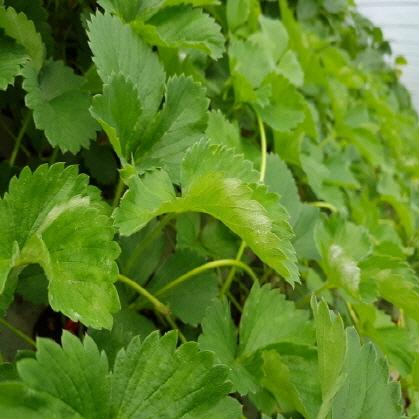Powdery Mildew Leaf: (109, 137, 303, 289), (0, 161, 121, 331), (312, 217, 379, 304)
